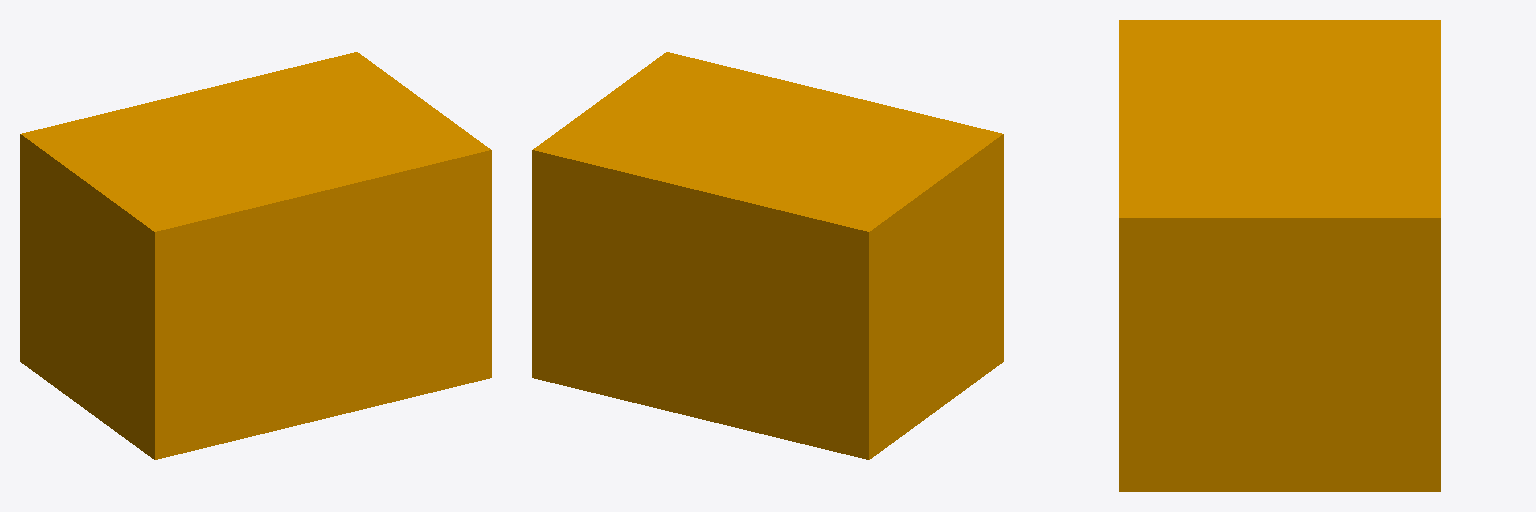
The robot description file, URDF, robot "object":
<?xml version="1.0"?>
<!-- Auto-generated by tools/gen_primitive_objects.py. kind=box dims=(0.089468, 0.061764, 0.057909) -->
<robot name="object">
  <link name="object">
    <visual>
      <origin xyz="0 0 0"/>
      <geometry>
        <box size="0.089468 0.061764 0.057909"/>
      </geometry>
    </visual>
    <collision>
      <origin xyz="0 0 0"/>
      <geometry>
        <box size="0.089468 0.061764 0.057909"/>
      </geometry>
    </collision>
    <inertial>
      <mass value="0.064000"/>
      <inertia ixx="0.00003823" ixy="0.0" ixz="0.0" iyy="0.00006058" iyz="0.0" izz="0.00006304"/>
    </inertial>
  </link>
</robot>

--- Facts derived from the render (not from the file) ---
Views: 3 orthographic renders of the robot side by side, from view 1: azimuth 30°, elevation 25°; view 2: azimuth 150°, elevation 25°; view 3: azimuth 270°, elevation 25°.
Robot: object — 1 links, 0 joints (none); root link object; default pose: all joints at 0.
Visible links, largest first — view 1: object; view 2: object; view 3: object.
Link boxes in pixels (<box>): object: <box>20,52,491,459</box>; object: <box>532,52,1003,459</box>; object: <box>1119,20,1440,491</box>.
Size in the robot's own frame: 0.0895 by 0.0618 by 0.0579 metres.
Geometry: primitives only (box / cylinder / sphere), no mesh files.
